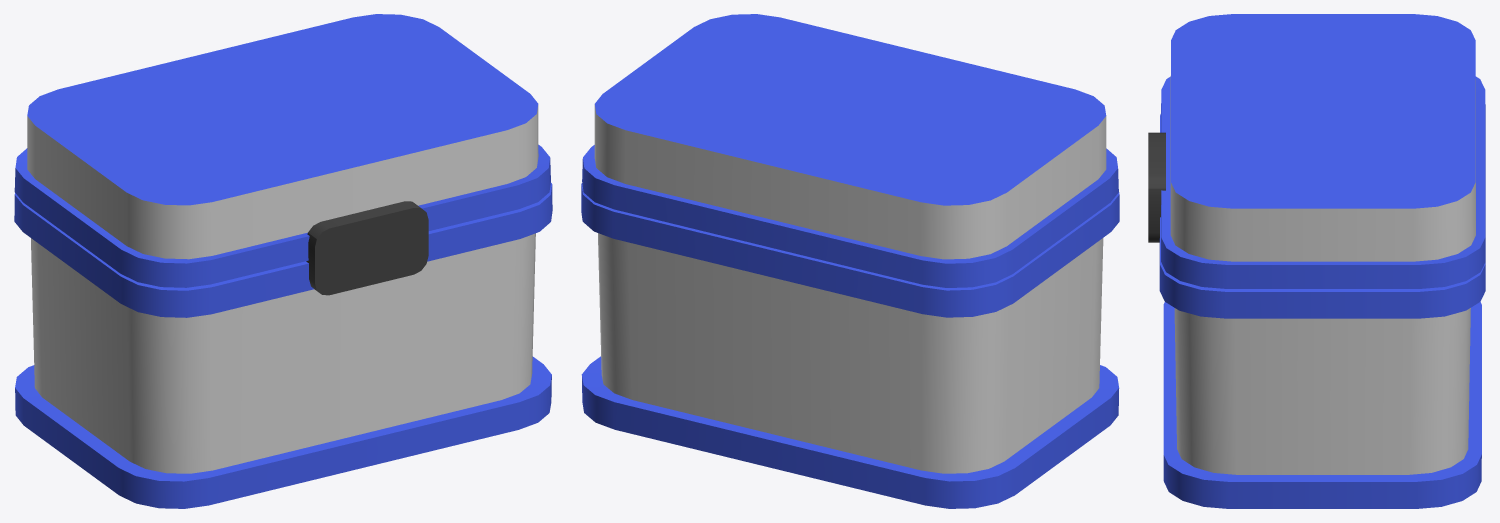
File: Lootbox Blue.fbx
3 renders of one model, left to right at view 1: azimuth 30°, elevation 25°; view 2: azimuth 150°, elevation 25°; view 3: azimuth 270°, elevation 25°, orthographic.
Visible parts, largest first — view 1: Lootbox Blue Bottom, Lootbox Blue Cup; view 2: Lootbox Blue Bottom, Lootbox Blue Cup; view 3: Lootbox Blue Cup, Lootbox Blue Bottom.
Boxes of the visible parts, x1,y1,x2,y2 form: Lootbox Blue Bottom: (14, 183, 552, 508); Lootbox Blue Cup: (14, 14, 550, 287); Lootbox Blue Bottom: (581, 183, 1119, 508); Lootbox Blue Cup: (582, 14, 1118, 287); Lootbox Blue Cup: (1161, 14, 1485, 288); Lootbox Blue Bottom: (1148, 114, 1485, 508).
Bounding box in the file's own units: 2.11 × 1.42 × 1.47.
